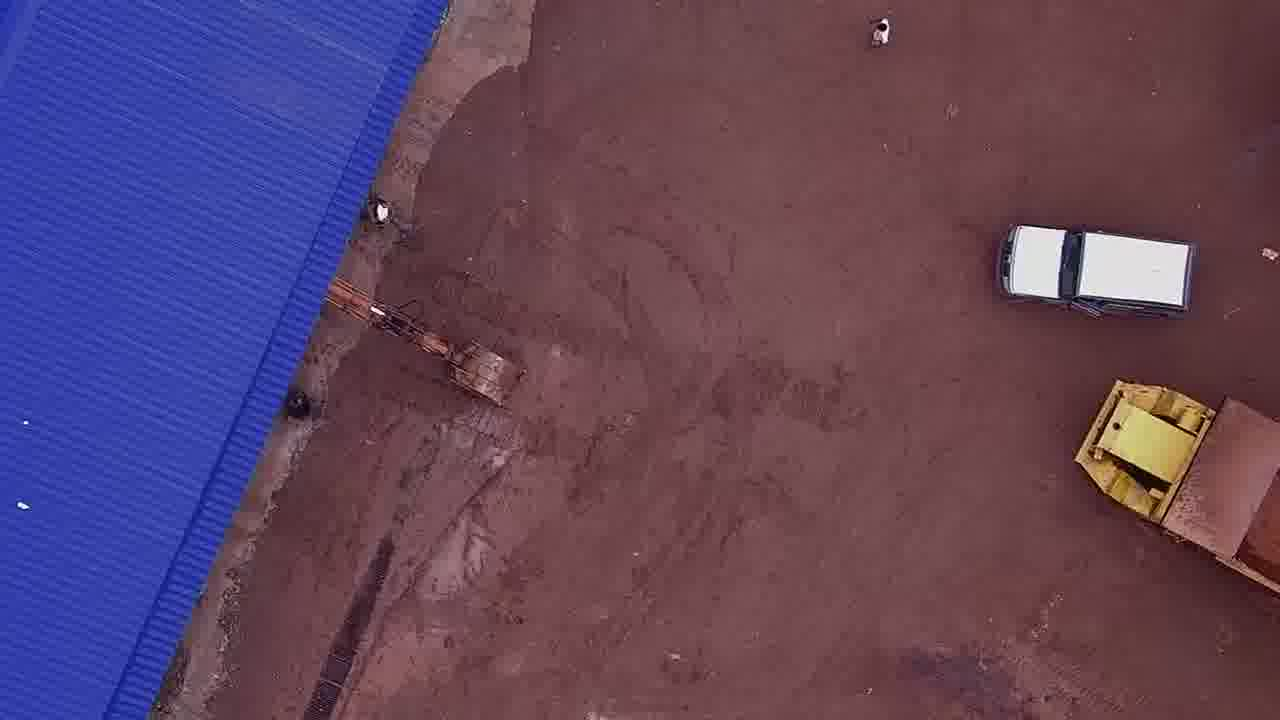HMV: (1074, 377, 1280, 595)
Person: (999, 214, 1198, 327), (866, 13, 894, 49), (369, 191, 394, 228)
